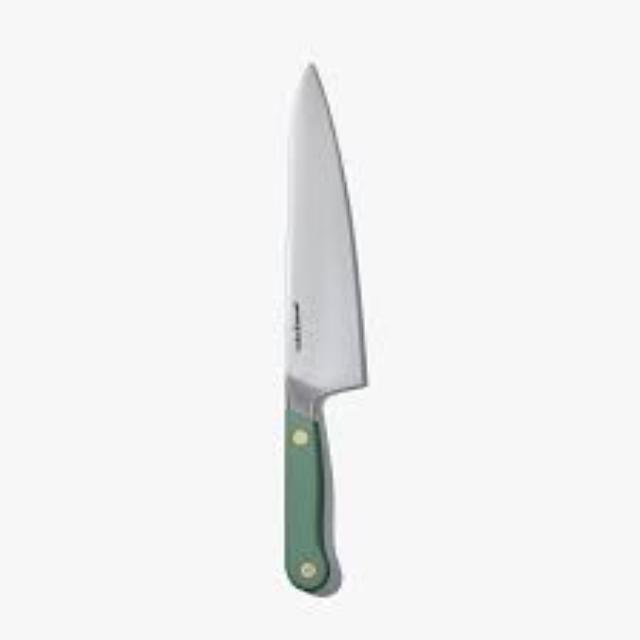Knife: (282, 60, 366, 594)
